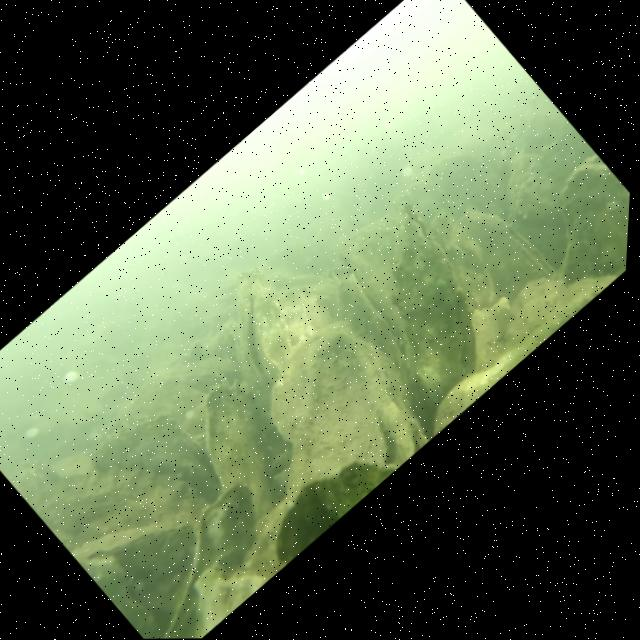Oyster-Closed: (307, 195, 530, 413), (78, 386, 239, 542), (66, 474, 203, 603), (447, 190, 563, 306), (488, 163, 602, 274)
Oyster-Indeterminate: (0, 381, 218, 595), (103, 478, 304, 639), (163, 376, 314, 526), (248, 432, 397, 568), (508, 150, 632, 305), (409, 207, 518, 315)
Oyster-Open: (224, 320, 444, 530), (182, 260, 334, 408), (306, 261, 438, 393)
